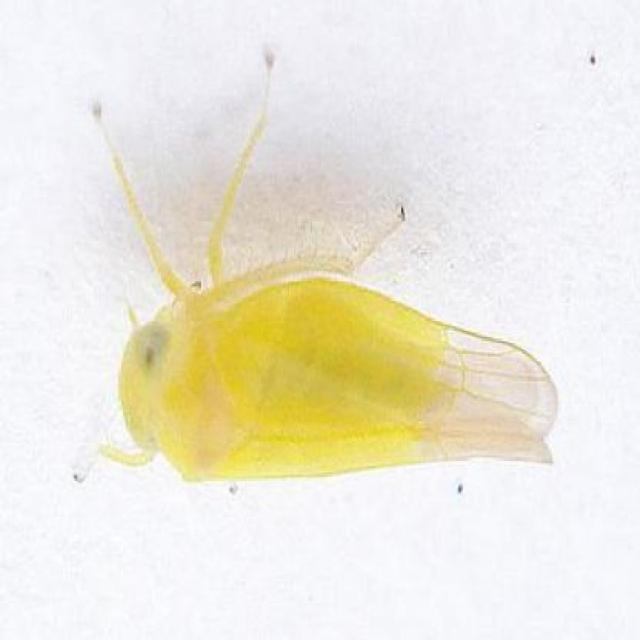green-leafhopper: (105, 245, 562, 489)
